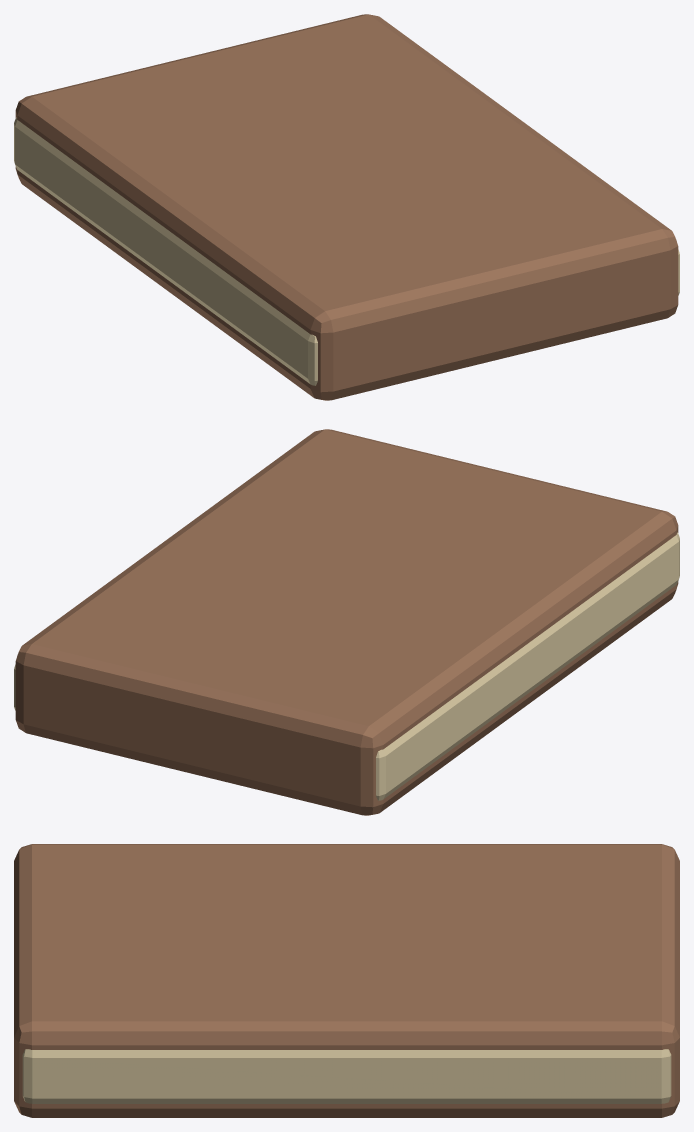
The model's file is buku.glb.
The picture shows the model from 3 angles, top to bottom: view 1: azimuth 30°, elevation 25°; view 2: azimuth 150°, elevation 25°; view 3: azimuth 270°, elevation 25°; orthographic projection. The views are drawn at different scales.
Parts seen in each view (by area): view 1: Badan.010, Halaman; view 2: Badan.010, Halaman; view 3: Badan.010, Halaman.
Part boxes in pixels (box(x1,y1,x2,y2)): Badan.010: box(15, 14, 678, 400); Halaman: box(14, 117, 679, 385); Badan.010: box(15, 429, 678, 815); Halaman: box(14, 532, 679, 800); Badan.010: box(14, 844, 679, 1117); Halaman: box(22, 1049, 671, 1103).
Size of the model in its own units: 0.152 by 0.035 by 0.22.
